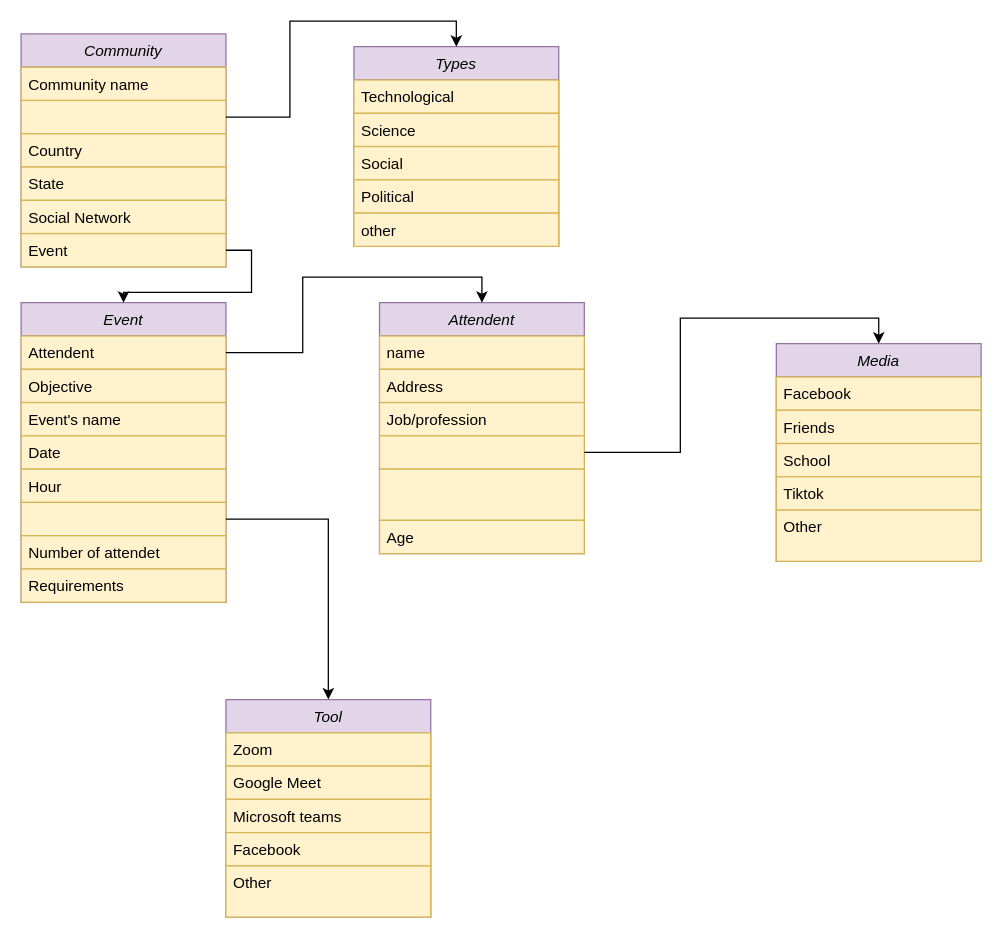
The diagram is 1002 pixels wide and 938 high, and some of its shapes have lost their labels. The centre of each missing label's shape, as x and y in pixels:
How you met the community?: [481,452]
Transmission tool: [123,518]
Type of community: [123,116]
Why did you decide to join the comunity?: [481,494]
